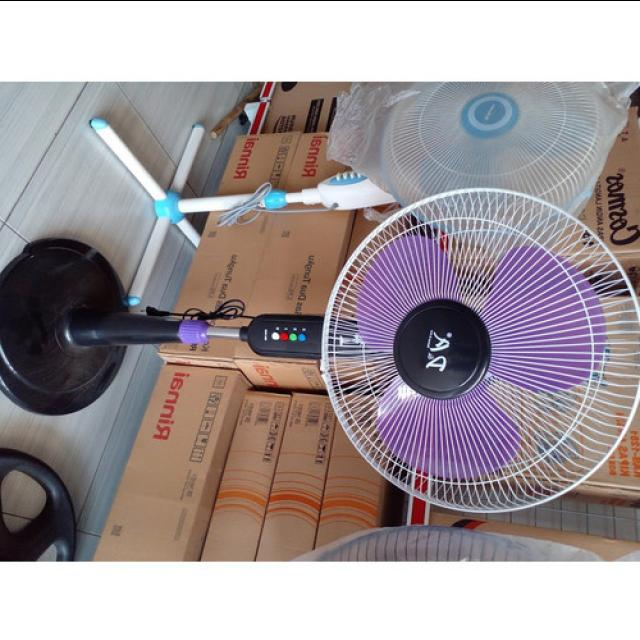fan: (1, 185, 637, 520)
